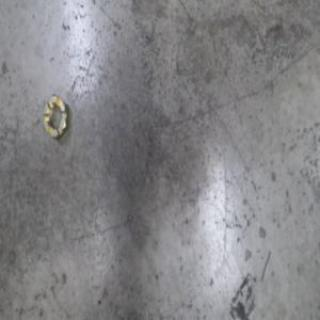Nuttrack_idkeyframe: (41, 89, 70, 141)
